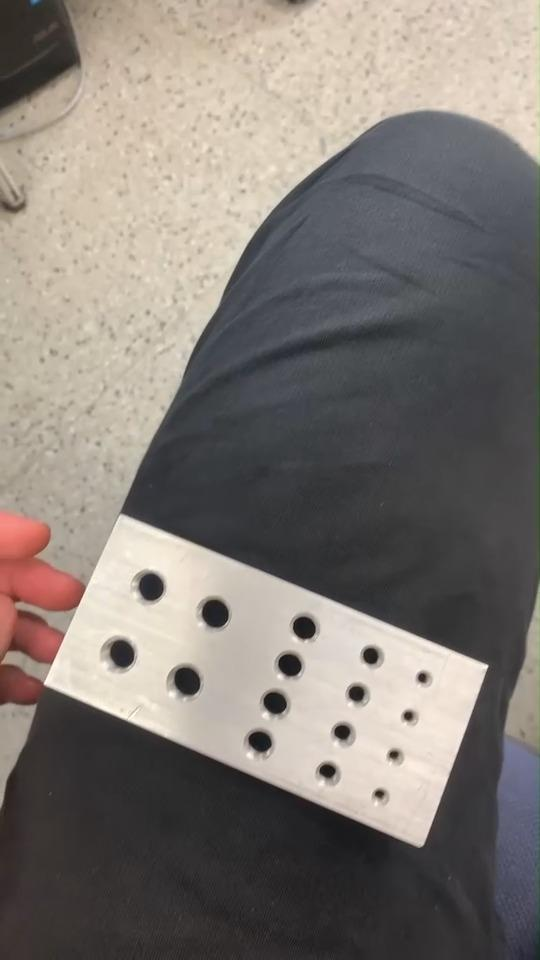hole: (165, 662, 207, 704), (100, 635, 139, 677), (128, 568, 168, 607), (194, 593, 232, 631), (240, 727, 278, 763), (255, 686, 291, 720), (286, 610, 321, 644), (274, 647, 308, 680), (328, 718, 358, 750), (341, 678, 372, 708), (314, 760, 345, 789), (357, 641, 386, 671), (384, 748, 406, 771), (398, 707, 419, 730), (411, 667, 432, 689), (370, 785, 390, 808)
